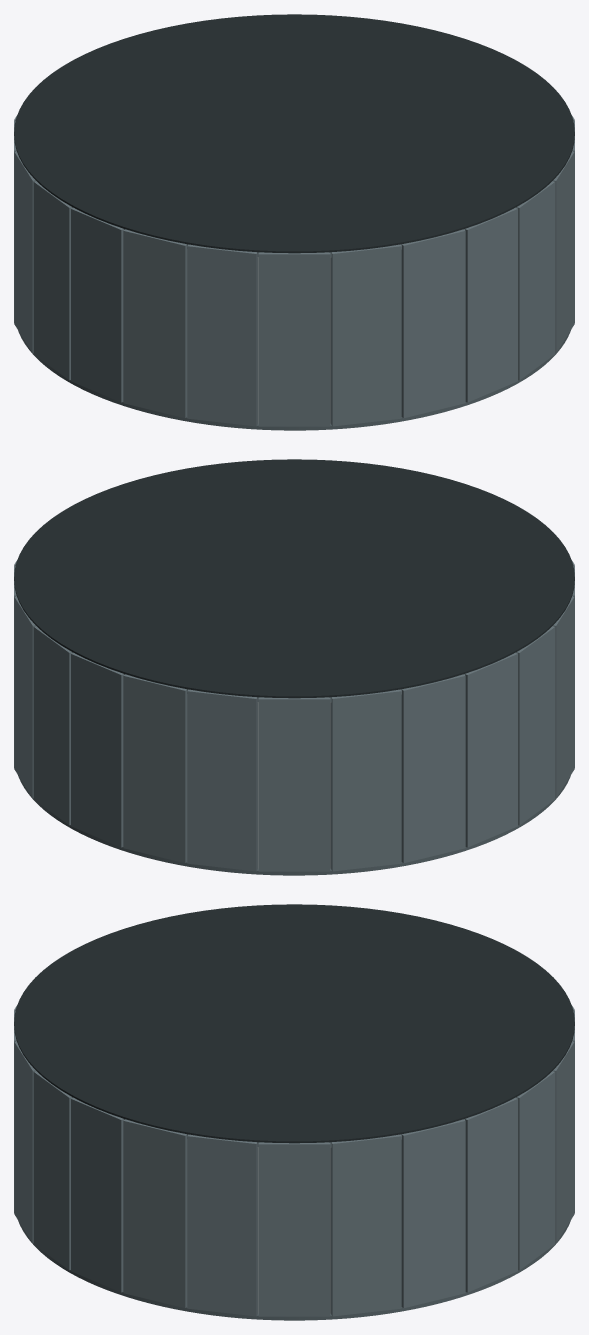
File: surface_echo_hall.glb
3 views of the same model, one above another, from view 1: azimuth 30°, elevation 25°; view 2: azimuth 150°, elevation 25°; view 3: azimuth 270°, elevation 25° (orthographic).
Parts seen in each view (by area): view 1: black_rubber, wall_steel, grate_steel; view 2: black_rubber, wall_steel, grate_steel; view 3: black_rubber, wall_steel, grate_steel.
Part boxes in pixels (x1=…): black_rubber: x1=14, y1=14, x2=574, y2=253; wall_steel: x1=14, y1=115, x2=574, y2=426; grate_steel: x1=18, y1=330, x2=570, y2=430; black_rubber: x1=14, y1=459, x2=574, y2=698; wall_steel: x1=14, y1=560, x2=574, y2=871; grate_steel: x1=18, y1=775, x2=570, y2=875; black_rubber: x1=14, y1=904, x2=574, y2=1143; wall_steel: x1=14, y1=1005, x2=574, y2=1316; grate_steel: x1=18, y1=1220, x2=570, y2=1320.
Size of the model in its own units: 44.81 by 15.81 by 44.81.
